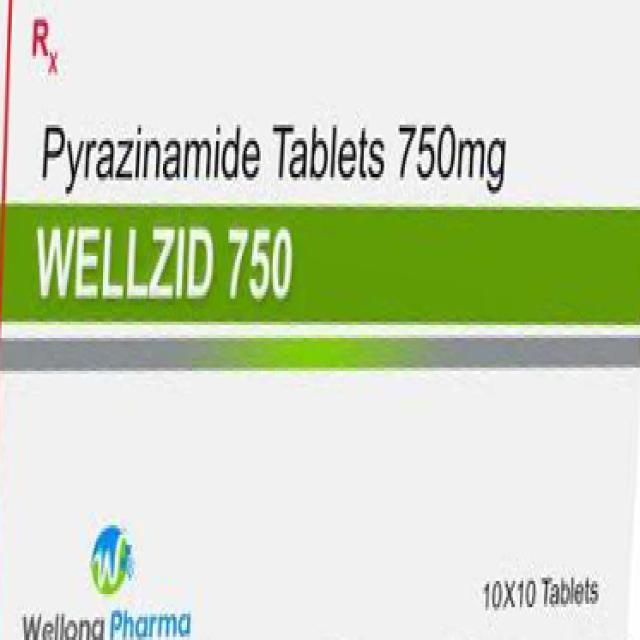drug-name: (34, 219, 294, 302)
